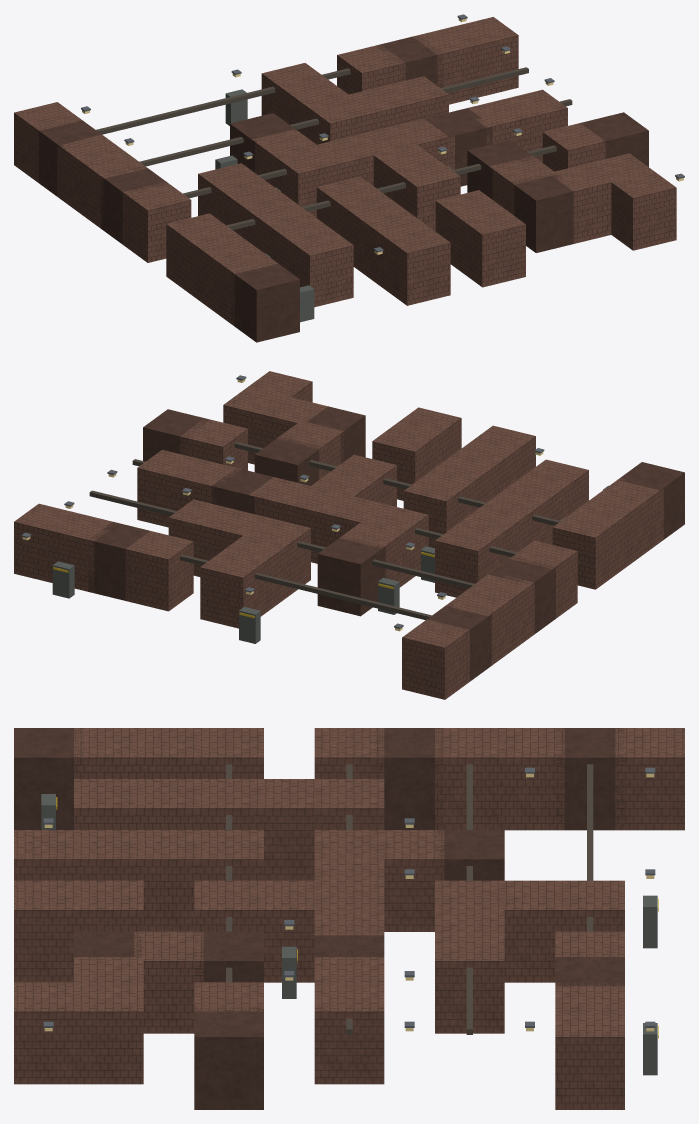
Rendered from level3_walls_1_0.obj.
3 views of the same model, one above another, from view 1: azimuth 30°, elevation 25°; view 2: azimuth 150°, elevation 25°; view 3: azimuth 270°, elevation 25° (orthographic). The views are drawn at different scales.
Size of the model in its own units: 27.35 by 3 by 25.1.
7 materials, 2 textured.
